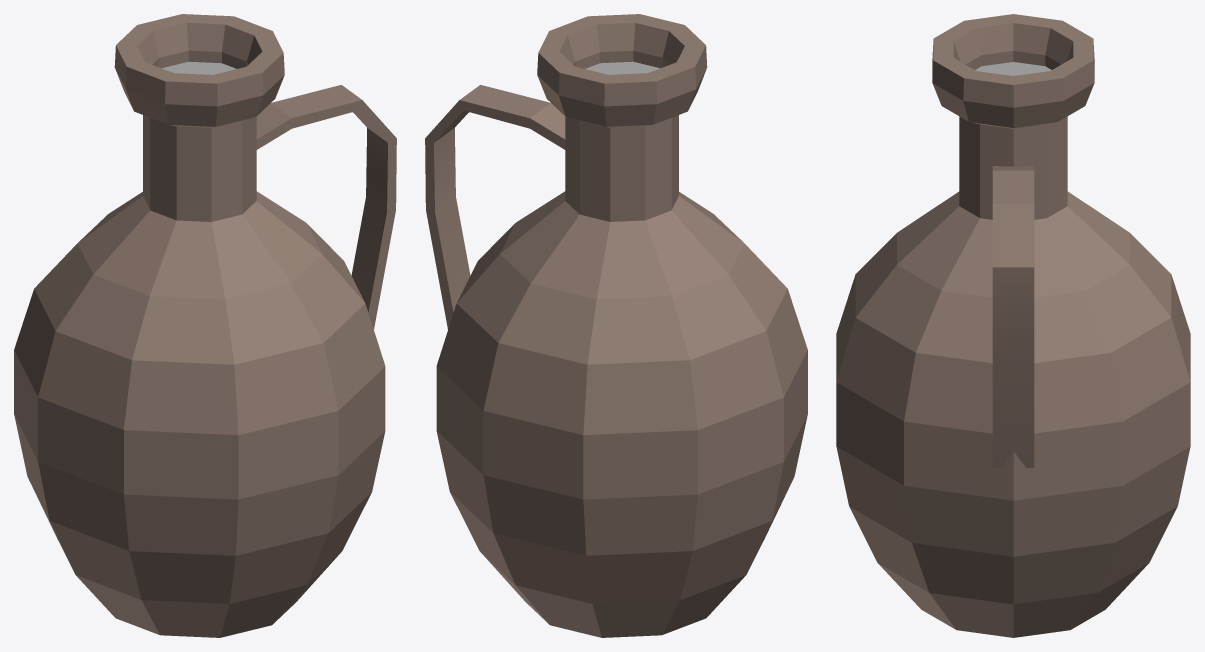
The model's file is VasoDeBarroAgua.fbx.
The picture shows the model from 3 angles, left to right: view 1: azimuth 30°, elevation 25°; view 2: azimuth 150°, elevation 25°; view 3: azimuth 270°, elevation 25°; orthographic projection.
Parts seen in each view (by area): view 1: JarraAgua, JarraFundo; view 2: JarraAgua, JarraFundo; view 3: JarraAgua, JarraFundo.
Part boxes in pixels (left/top/right/bottom): JarraAgua: left=14, top=14, right=396, bottom=637; JarraFundo: left=162, top=61, right=236, bottom=74; JarraAgua: left=425, top=14, right=807, bottom=637; JarraFundo: left=585, top=61, right=659, bottom=74; JarraAgua: left=836, top=14, right=1190, bottom=637; JarraFundo: left=975, top=62, right=1051, bottom=75.
Bounding box in the file's own units: 0.4086 × 0.6154 × 0.3608.
